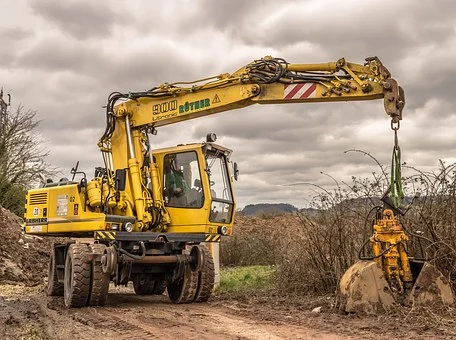excavator: (28, 53, 414, 317)
